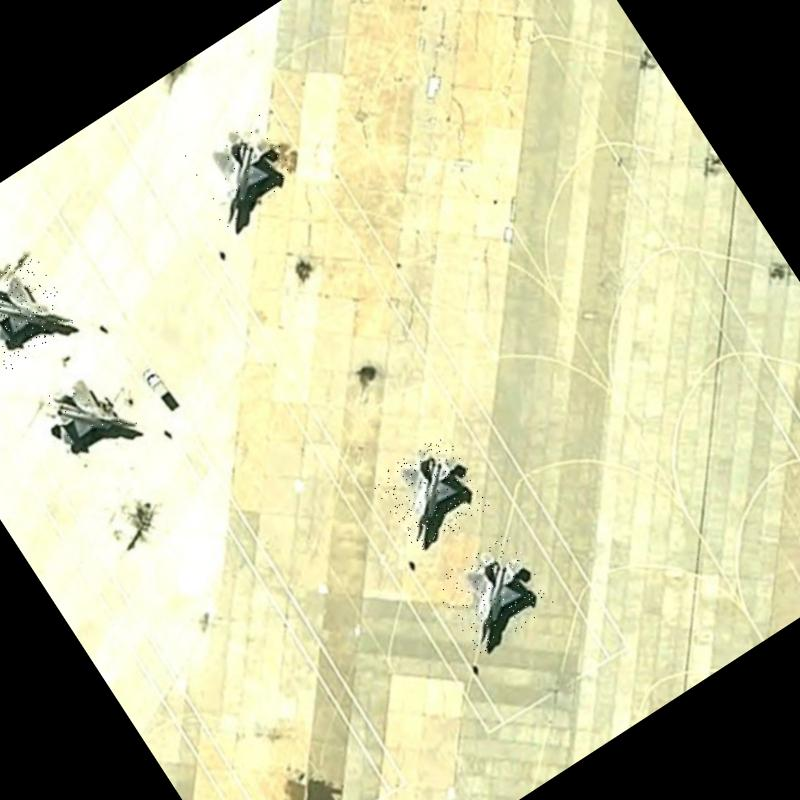A15: (429, 530, 556, 656), (179, 108, 304, 233), (369, 431, 493, 555), (23, 356, 145, 478), (0, 248, 80, 374)
